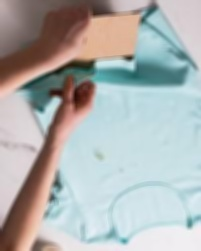oil: (84, 145, 106, 166), (132, 159, 144, 172), (117, 168, 123, 175)
